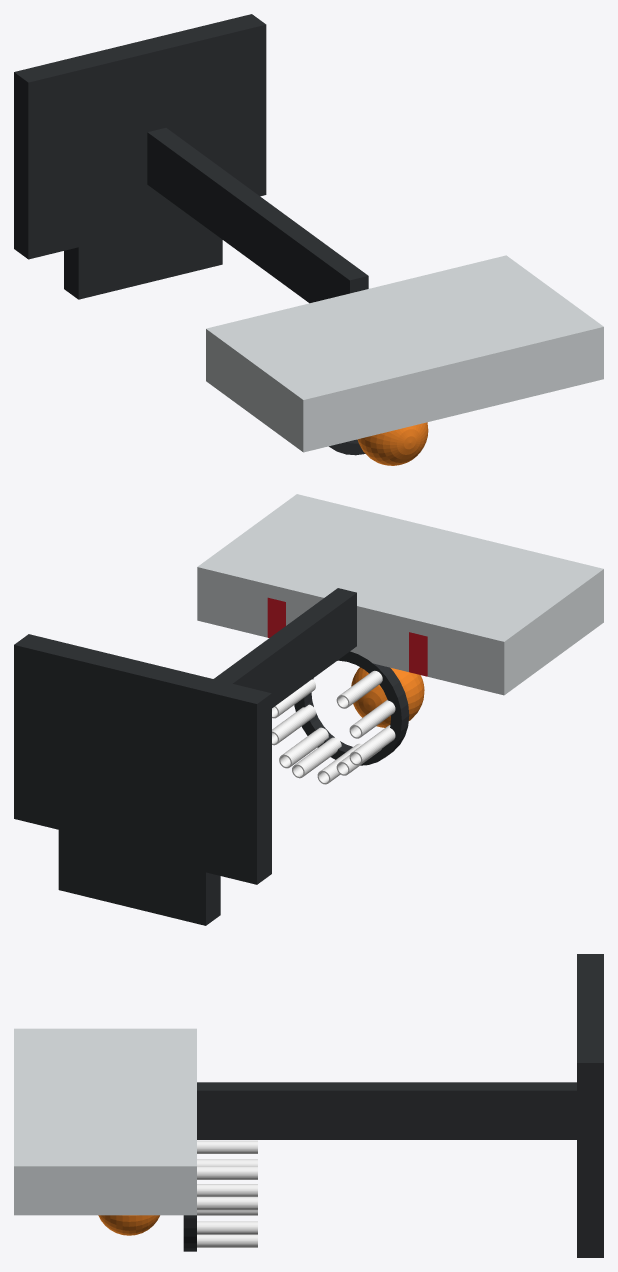
Rendered from basketball.obj.
3 renders of one model, top to bottom at view 1: azimuth 30°, elevation 25°; view 2: azimuth 150°, elevation 25°; view 3: azimuth 270°, elevation 25°, orthographic. The views are drawn at different scales.
Parts seen in each view (by area): view 1: group_0_-13947343, group_0_-2235676, group_0_-687329; view 2: group_0_-13947343, group_0_-2235676, group_0_-328966, group_0_-687329, group_0_-1499859; view 3: group_0_-2235676, group_0_-13947343, group_0_-328966, group_0_-687329.
Boxes of the visible parts, x1,y1,x2,y2 form: group_0_-13947343: (14,14,368,455); group_0_-2235676: (206,255,603,452); group_0_-687329: (357,422,428,465); group_0_-13947343: (14,588,409,925); group_0_-2235676: (197,494,603,695); group_0_-328966: (272,670,395,784); group_0_-687329: (351,667,424,727); group_0_-1499859: (267,597,427,676); group_0_-2235676: (14,1028,196,1215); group_0_-13947343: (183,954,603,1257); group_0_-328966: (197,1140,257,1247); group_0_-687329: (98,1215,159,1235).
Size of the model in its own units: 48 by 38 by 87.
